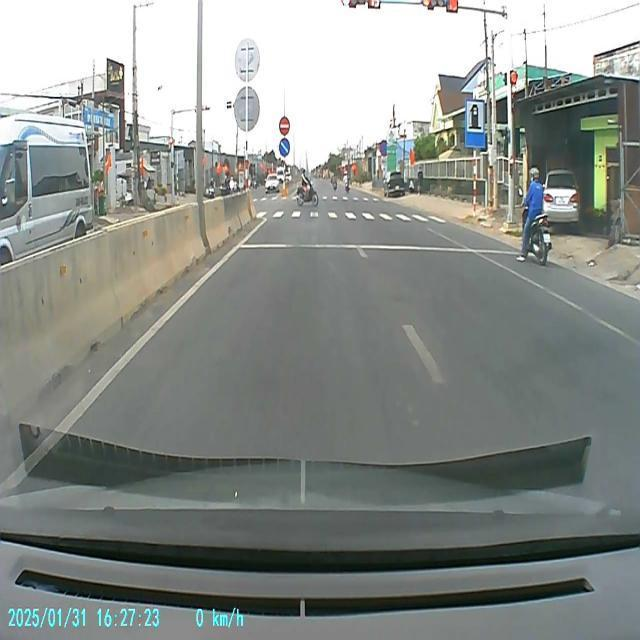102-cam-di-nguoc-chieu: (278, 115, 290, 135)
302a-huong-phai-di-vong-chuong-ngai-vat-1: (280, 136, 290, 158)
